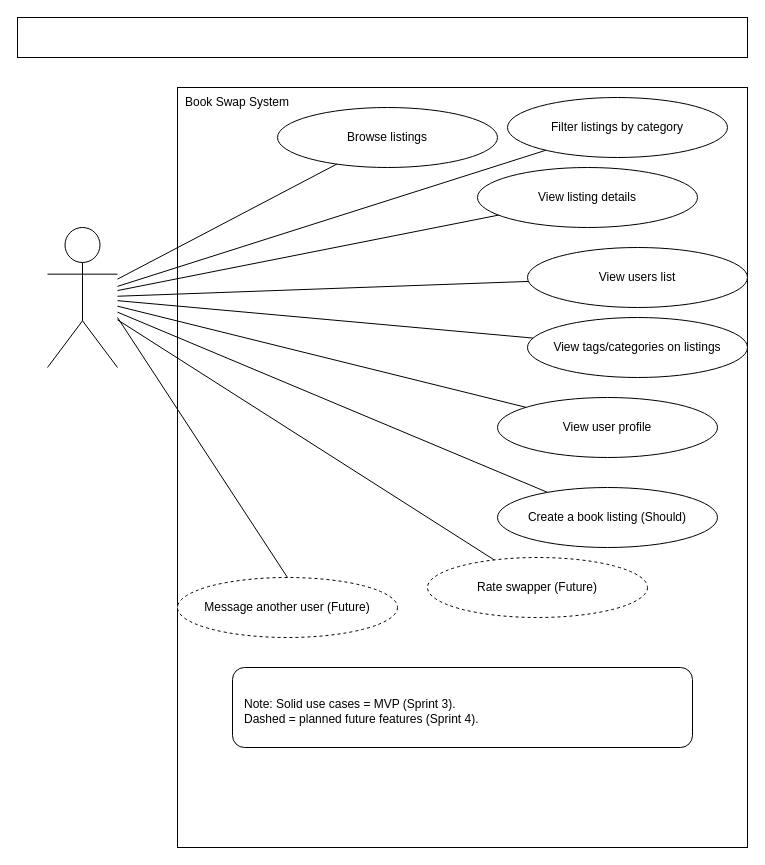
This 765x865 diagram has some shape labels left out. Each missing label, with the centre of its shape:
"Book Swap - Use Case Diagram" belongs at (x=382, y=37).
"User" belongs at (x=82, y=297).
